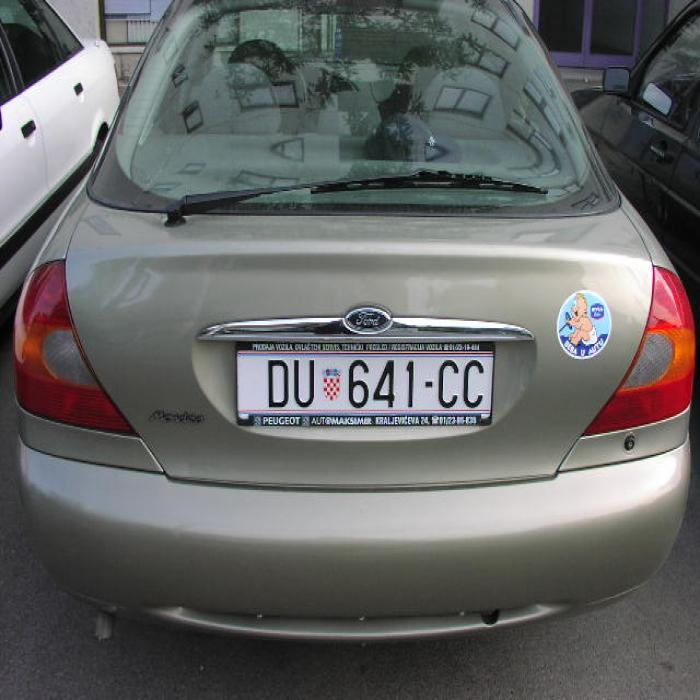number_plate: (237, 353, 490, 411)
